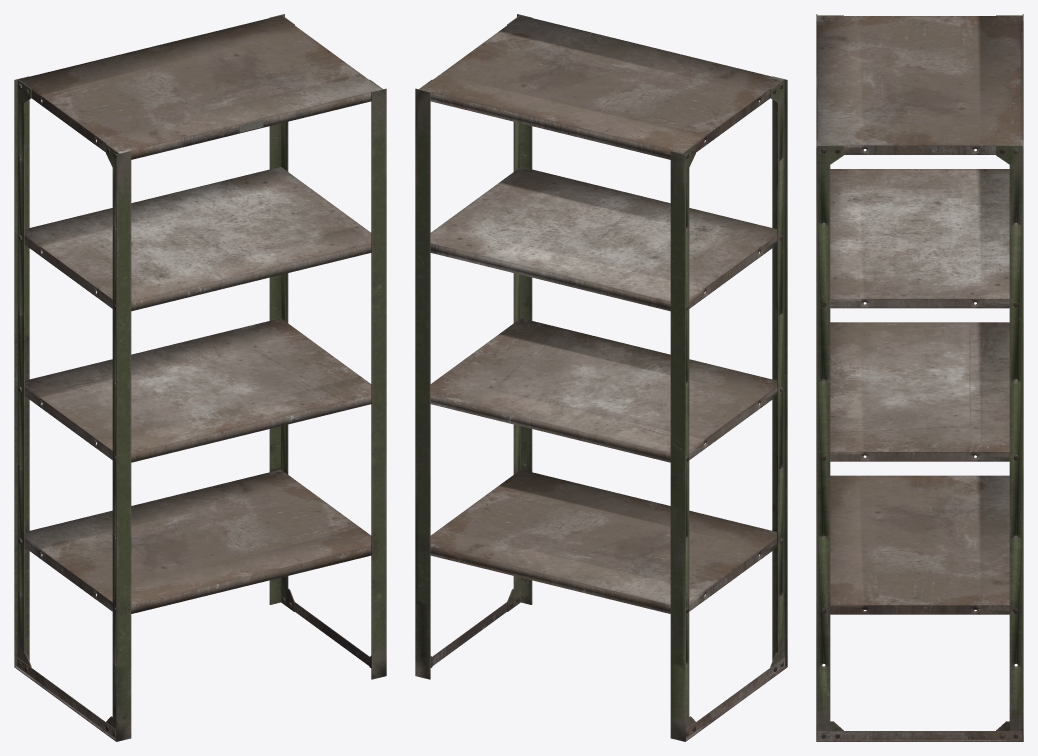
Rendered from worn_metal_rack.glb.
3 renders of one model, left to right at view 1: azimuth 30°, elevation 25°; view 2: azimuth 150°, elevation 25°; view 3: azimuth 270°, elevation 25°, orthographic.
Visible parts, largest first — view 1: worn_metal_rack; view 2: worn_metal_rack; view 3: worn_metal_rack.
Boxes of the visible parts, x1,y1,x2,y2 form: worn_metal_rack: (14, 14, 386, 741); worn_metal_rack: (415, 14, 787, 741); worn_metal_rack: (816, 14, 1023, 741).
Size of the model in its own units: 0.9154 by 1.9 by 0.6.
Materials: 1 (1 with a texture image).
